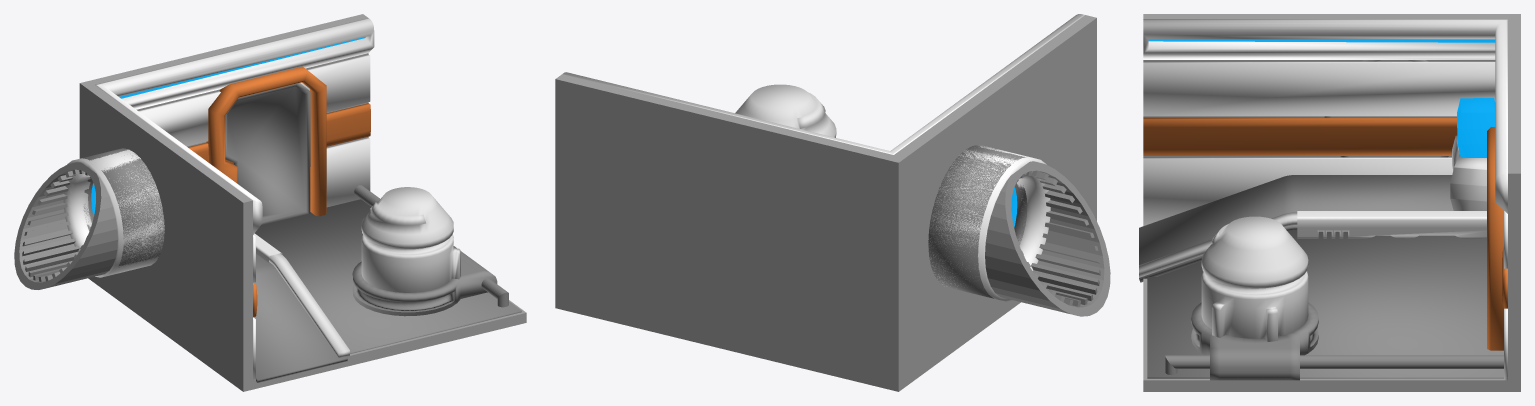
File: scifi_corridor.gltf
3 views of the same model, side by side, from view 1: azimuth 30°, elevation 25°; view 2: azimuth 150°, elevation 25°; view 3: azimuth 270°, elevation 25° (orthographic). The views are drawn at different scales.
Parts seen in each view (by area): view 1: Walls, Floor, Wall Structure, Walls.003, Panels, Circle, Cylinder.006, Platform, Door, Entrance, Cylinder.003, Generator (+2 smaller); view 2: Walls, Cylinder.006, Cylinder.003, Entrance, Circle, Wall Structure; view 3: Panels, Floor, Wall Structure, Walls, Platform, Circle, Generator, Vert, Cylinder, Door, Plane.011, Plane.008 (+1 smaller).
Boxes of the visible parts, bbox=[...] form: Walls: bbox=[79, 14, 526, 391]; Floor: bbox=[255, 199, 521, 353]; Wall Structure: bbox=[95, 18, 374, 234]; Walls.003: bbox=[225, 83, 310, 225]; Panels: bbox=[138, 54, 370, 379]; Circle: bbox=[361, 187, 460, 292]; Cylinder.006: bbox=[14, 162, 117, 289]; Platform: bbox=[254, 254, 347, 382]; Door: bbox=[206, 66, 326, 216]; Entrance: bbox=[63, 149, 164, 277]; Cylinder.003: bbox=[82, 148, 164, 267]; Generator: bbox=[352, 246, 497, 316]; Walls: bbox=[555, 15, 1096, 391]; Cylinder.006: bbox=[985, 161, 1110, 316]; Cylinder.003: bbox=[928, 145, 1027, 298]; Entrance: bbox=[928, 144, 1050, 301]; Circle: bbox=[735, 84, 836, 137]; Wall Structure: bbox=[562, 14, 1084, 154]; Panels: bbox=[1143, 61, 1507, 380]; Floor: bbox=[1147, 230, 1503, 378]; Wall Structure: bbox=[1143, 19, 1507, 213]; Walls: bbox=[1143, 14, 1520, 391]; Platform: bbox=[1139, 175, 1453, 282]; Circle: bbox=[1201, 216, 1308, 341]; Generator: bbox=[1191, 302, 1318, 380]; Vert: bbox=[1297, 211, 1486, 238]; Cylinder: bbox=[1165, 355, 1503, 374]; Door: bbox=[1487, 127, 1503, 350]; Plane.011: bbox=[1457, 98, 1495, 157]; Plane.008: bbox=[1450, 154, 1486, 210].
Size of what is drawn, in the model's own units: 11.47 by 5.28 by 8.37.
